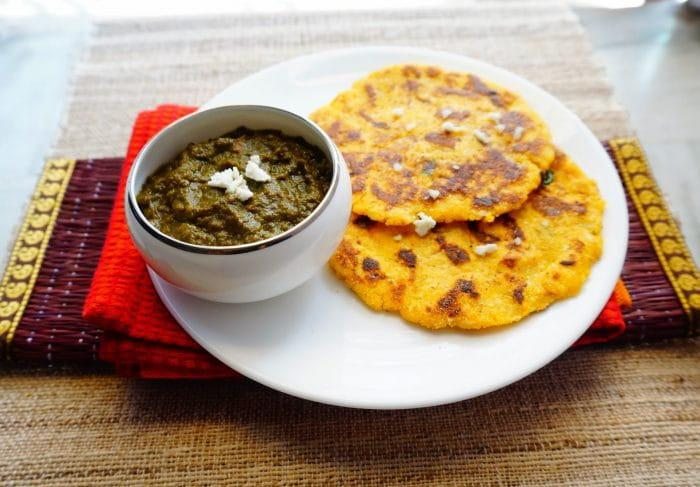saag: (145, 129, 340, 246)
